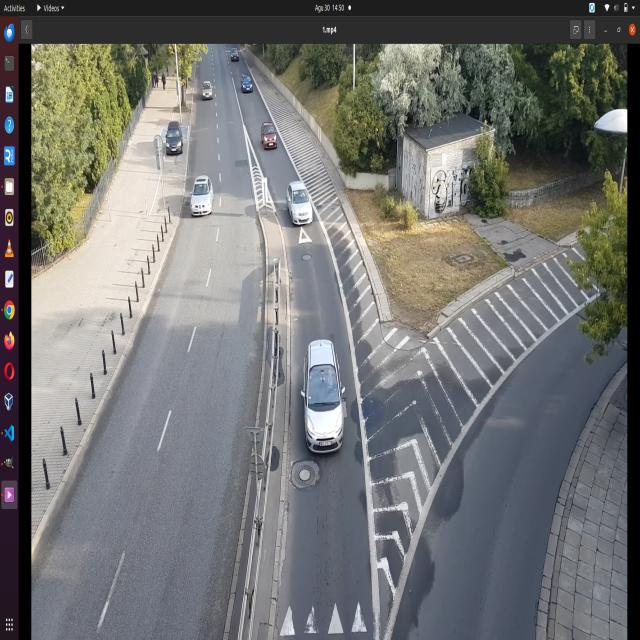person_with_seatbelt: (326, 368, 338, 395)
